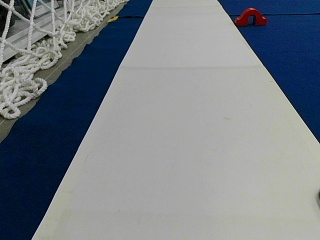bridge: (237, 8, 267, 24)
